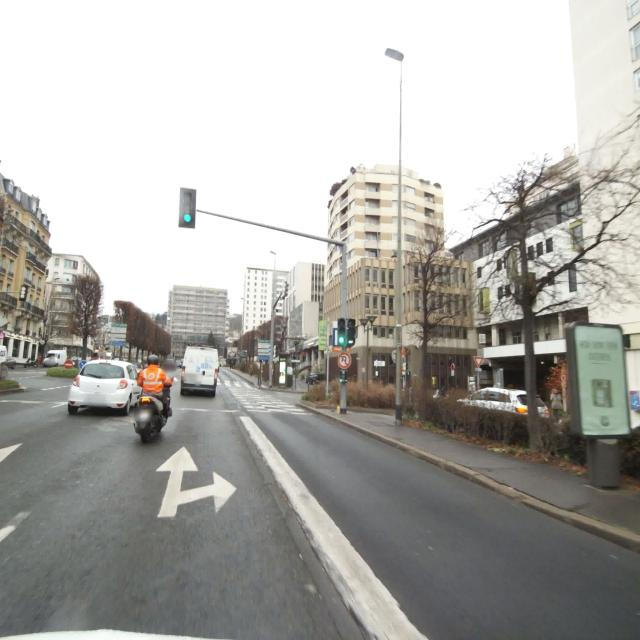bike: (132, 372, 174, 443)
car: (68, 358, 143, 416), (464, 386, 550, 416), (180, 345, 218, 397), (43, 349, 67, 366), (64, 356, 82, 368), (175, 357, 184, 368)
